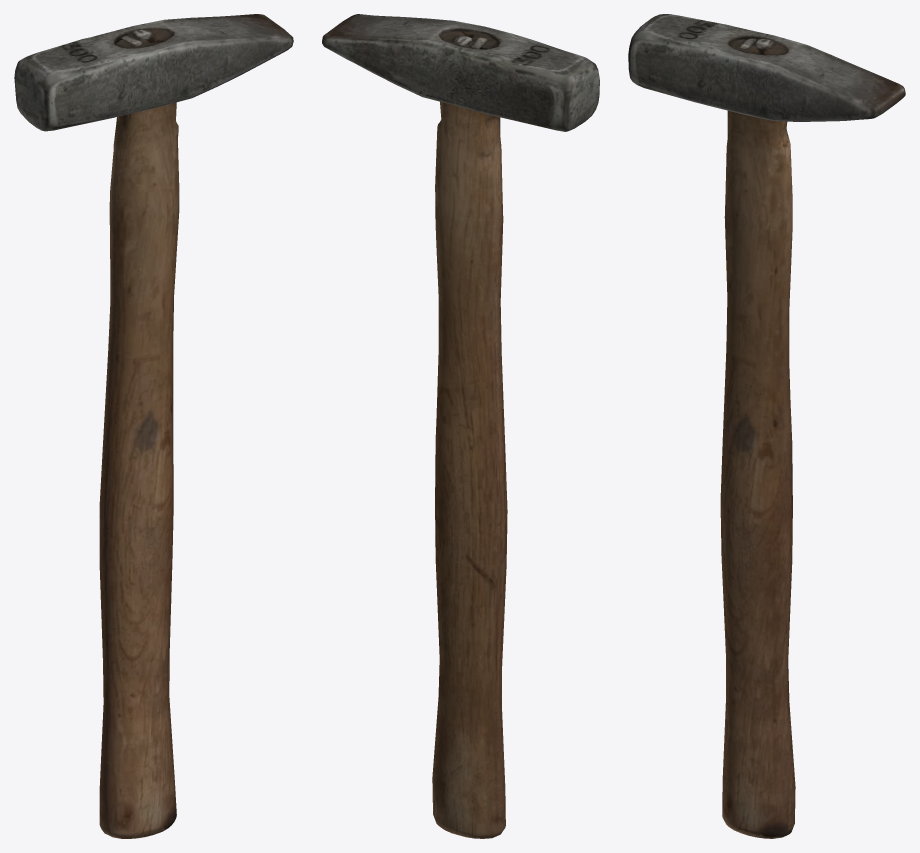
Rendered from hammer.glb.
3 views of the same model, side by side, from view 1: azimuth 30°, elevation 25°; view 2: azimuth 150°, elevation 25°; view 3: azimuth 330°, elevation 25° (orthographic).
Parts seen in each view (by area): view 1: cross_pein_hammer; view 2: cross_pein_hammer; view 3: cross_pein_hammer.
Part boxes in pixels (x1,y1,x2,y2): cross_pein_hammer: (14,14,293,838); cross_pein_hammer: (322,14,599,838); cross_pein_hammer: (628,14,905,838).
Size of the model in its own units: 0.099 by 0.3002 by 0.0243.
Materials: 1 (1 with a texture image).
